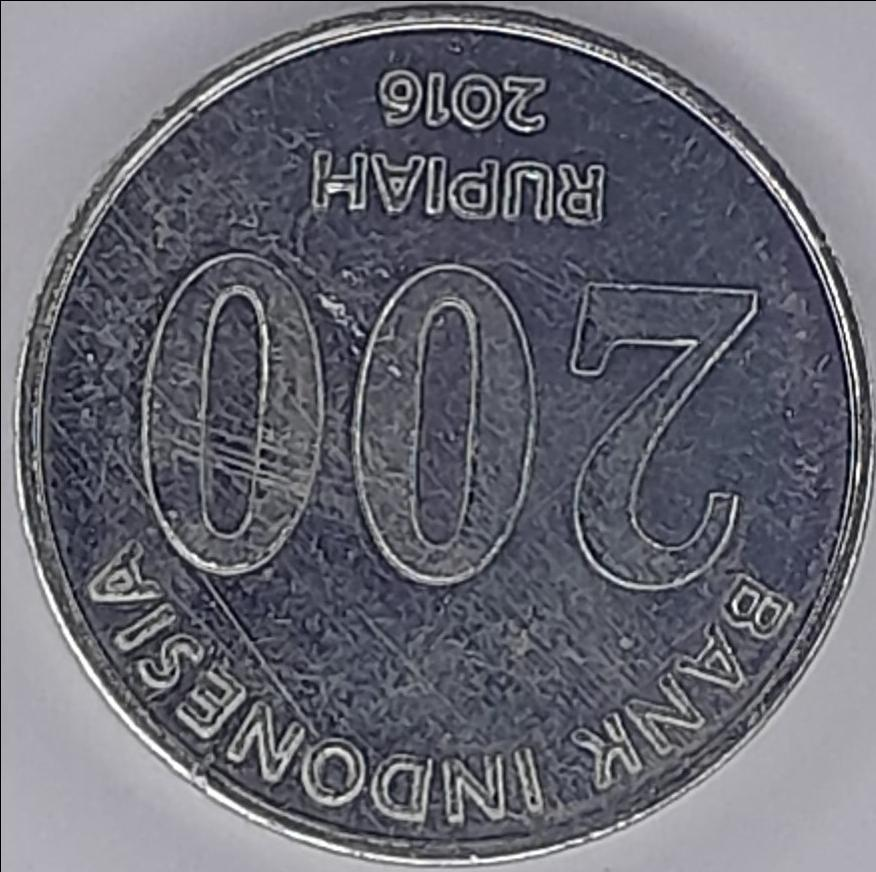coin_200_e2016: (0, 15, 876, 872)
